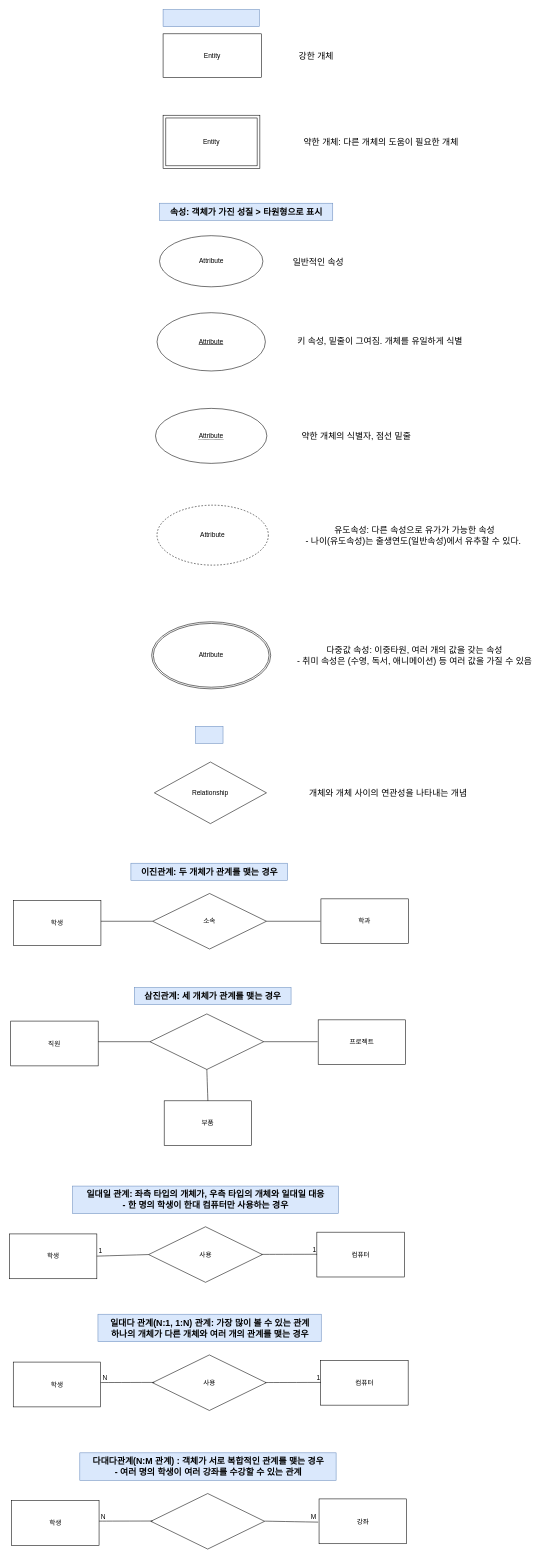
This 555x1559 diagram has some shape labels left out. The centre of each missing label's shape, as x and y in pixels:
객체: 사각형으로 표시: (x=211, y=18)
관계: (x=209, y=734)
수강: (x=207, y=1521)
수행: (x=206, y=1041)
